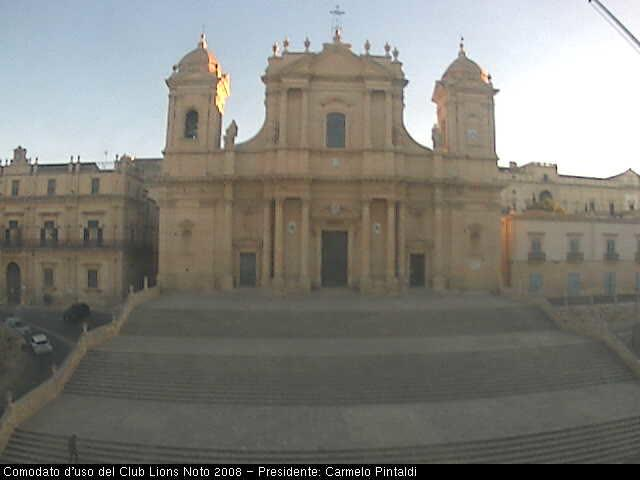person: (65, 432, 79, 463)
